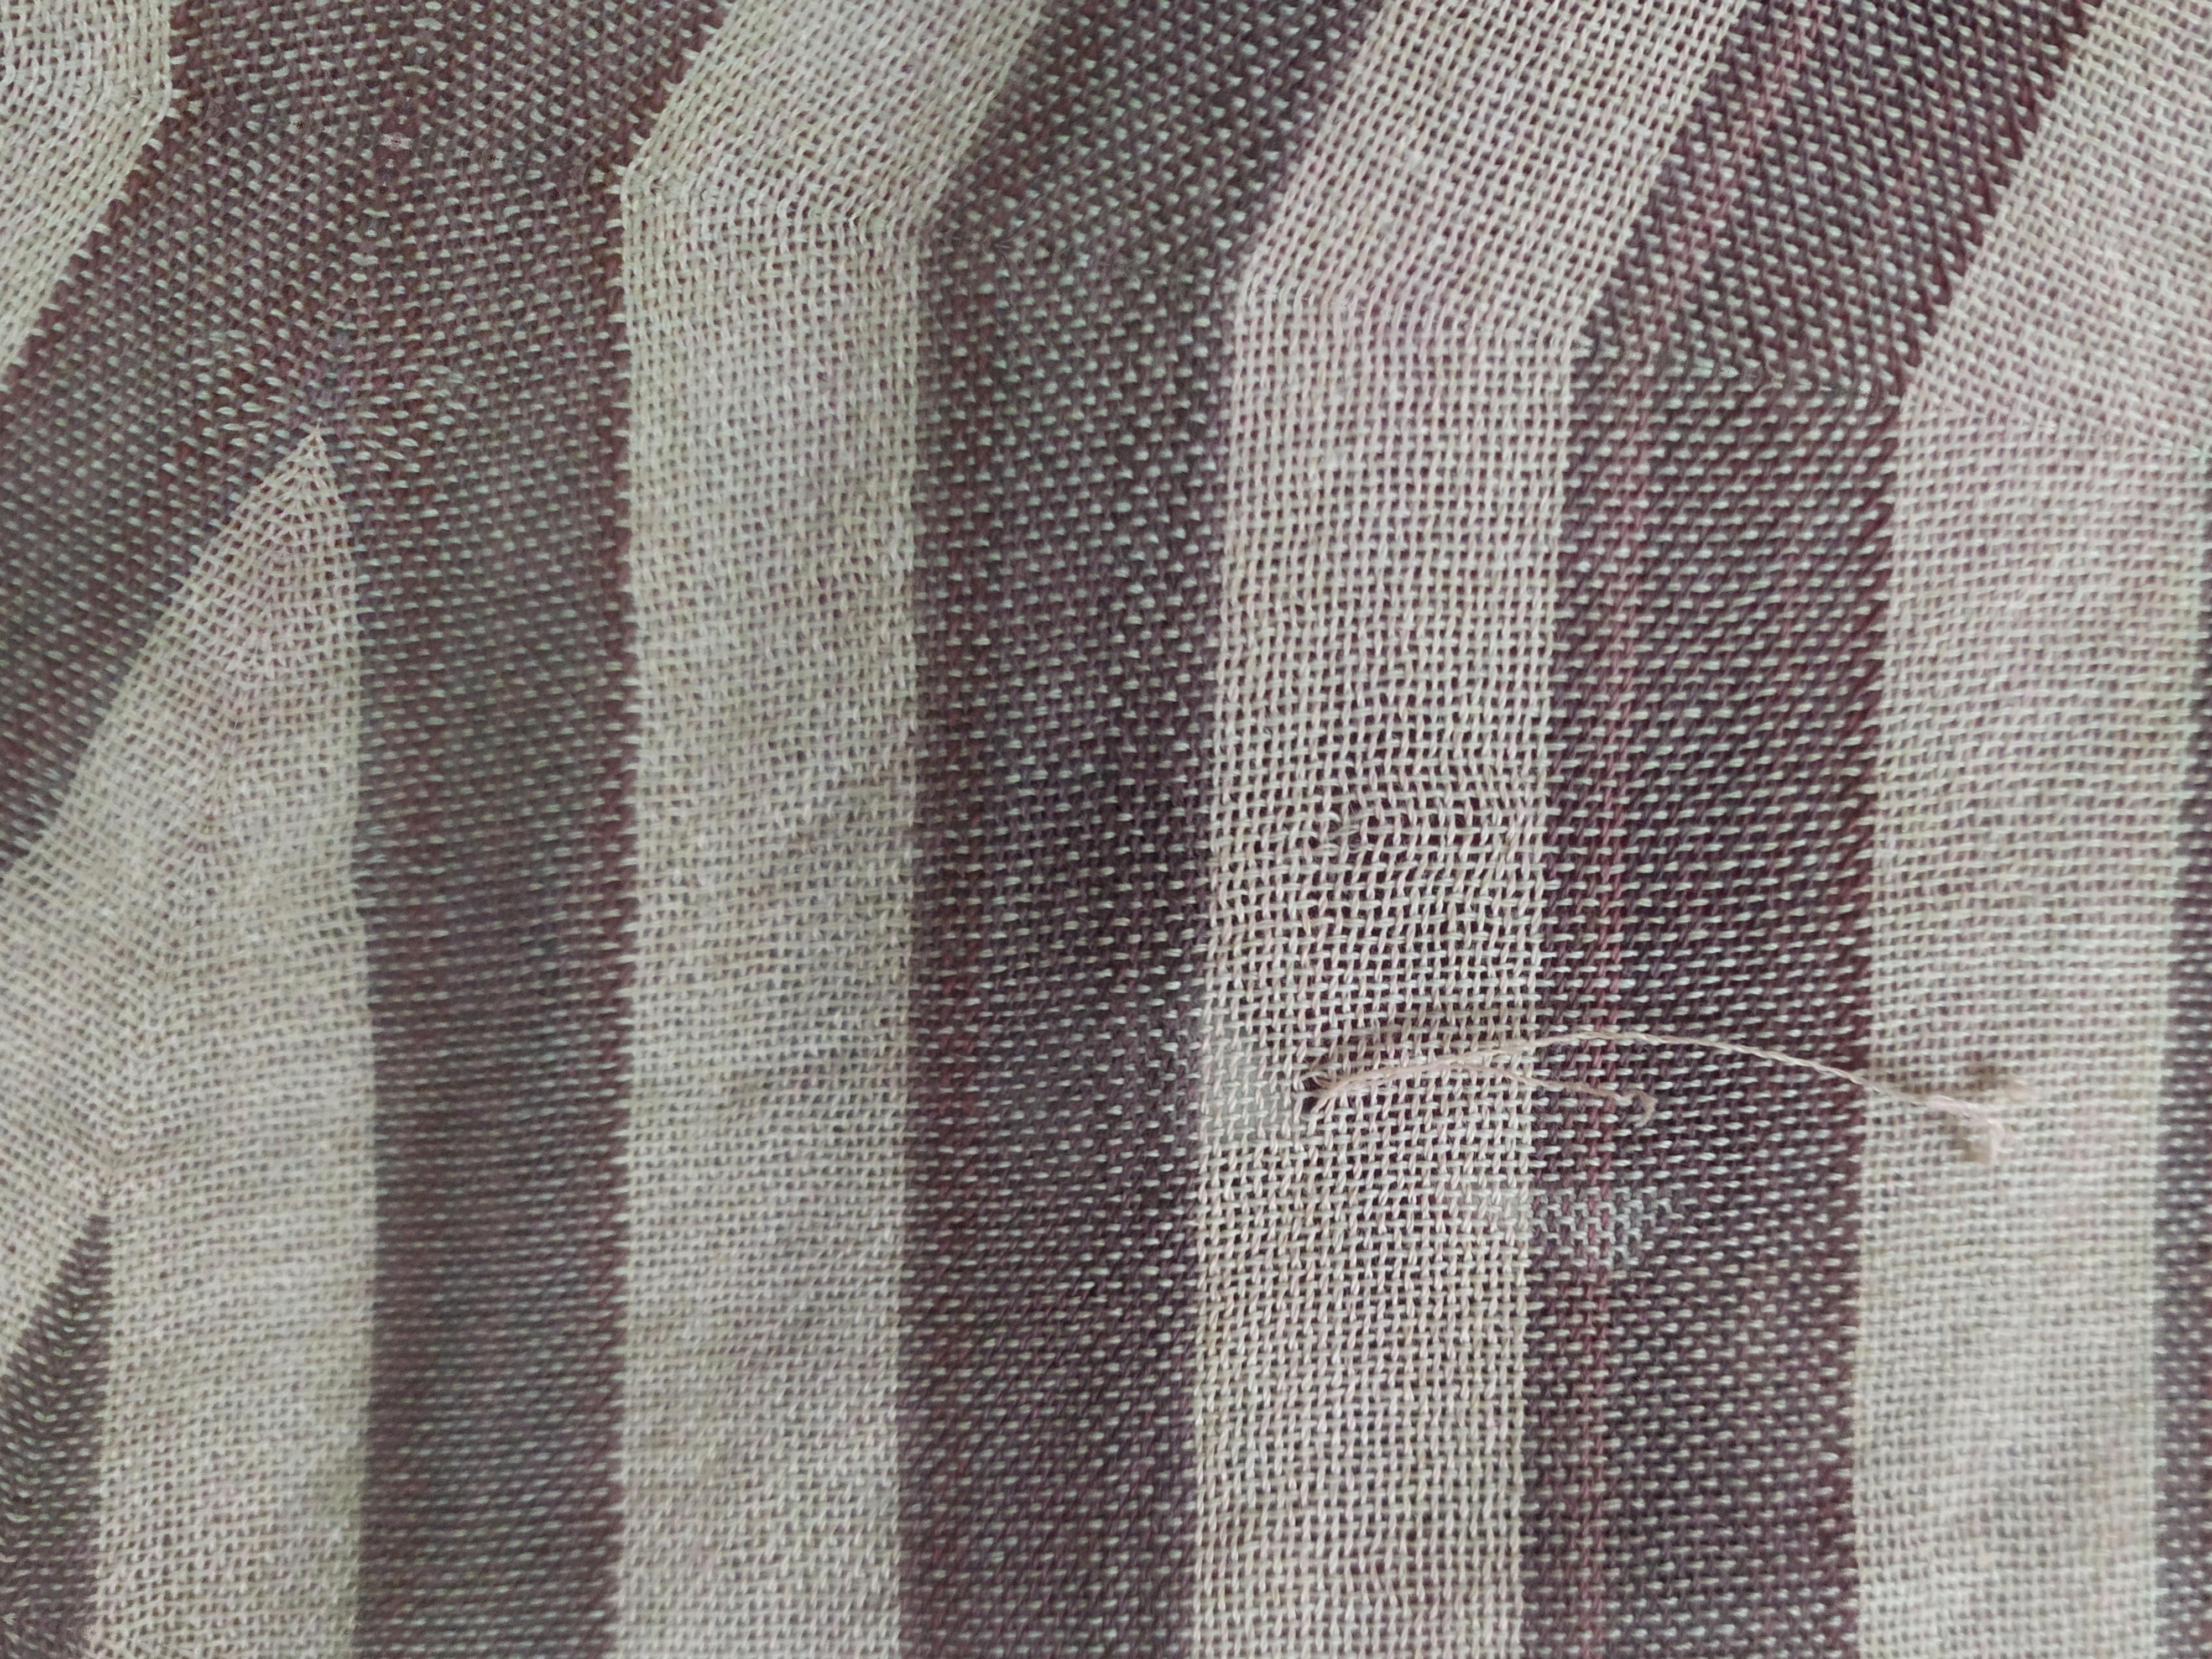snag: (1238, 1006, 2071, 1192)
